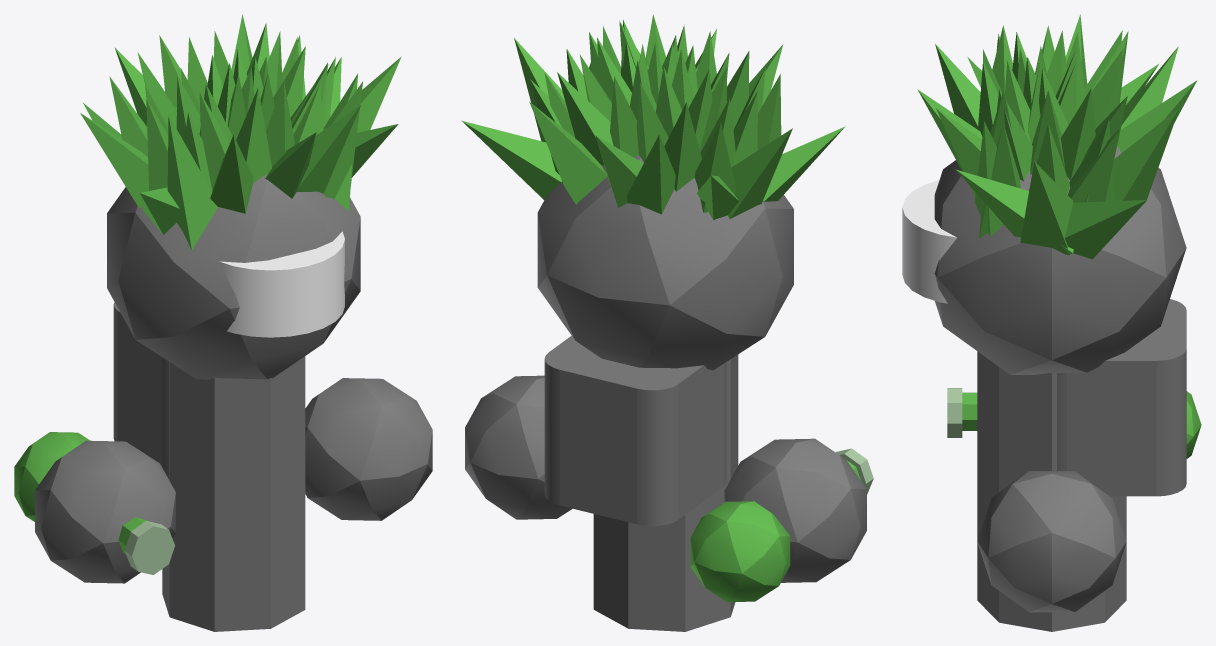
Rendered from Player_Scientist.fbx.
3 renders of one model, left to right at view 1: azimuth 30°, elevation 25°; view 2: azimuth 150°, elevation 25°; view 3: azimuth 270°, elevation 25°, orthographic.
Visible parts, largest first — view 1: icosphere (×4), cylinderVertex (×2), pyramid (×26), cylinder_half, cylinderSquare; view 2: icosphere (×4), pyramid (×28), cylinderSquare, cylinderVertex (×2); view 3: icosphere (×3), pyramid (×32), cylinderSquare, cylinderVertex (×3), cylinder_half.
Boxes of the visible parts, left/top/right/bottom form: icosphere (×4): left=14, top=174, right=432, bottom=583; cylinderVertex (×2): left=124, top=356, right=305, bottom=631; pyramid (×26): left=80, top=14, right=401, bottom=249; cylinder_half: left=219, top=231, right=344, bottom=337; cylinderSquare: left=113, top=302, right=168, bottom=478; icosphere (×4): left=465, top=155, right=866, bottom=602; pyramid (×28): left=461, top=20, right=845, bottom=219; cylinderSquare: left=544, top=335, right=726, bottom=526; cylinderVertex (×2): left=593, top=354, right=873, bottom=631; icosphere (×3): left=934, top=146, right=1201, bottom=612; pyramid (×32): left=917, top=14, right=1196, bottom=259; cylinderSquare: left=1057, top=299, right=1186, bottom=496; cylinderVertex (×3): left=947, top=351, right=1126, bottom=631; cylinder_half: left=902, top=180, right=956, bottom=303.
Size of the model in its own units: 30 by 40.59 by 20.
